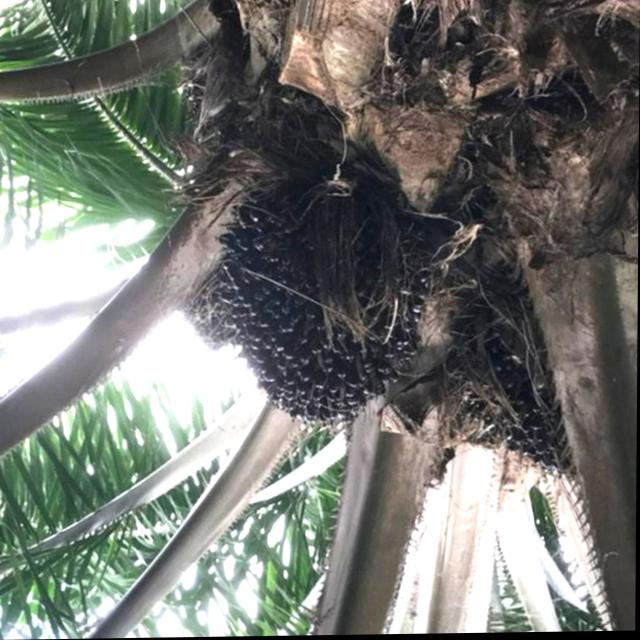almost: (209, 161, 445, 442)
